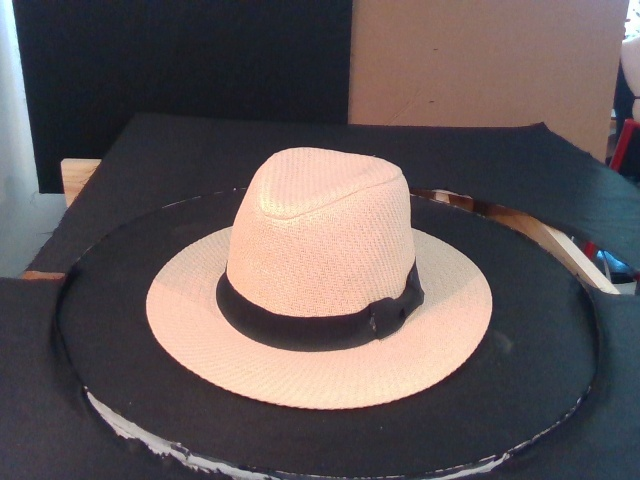hat: (144, 147, 494, 412)
